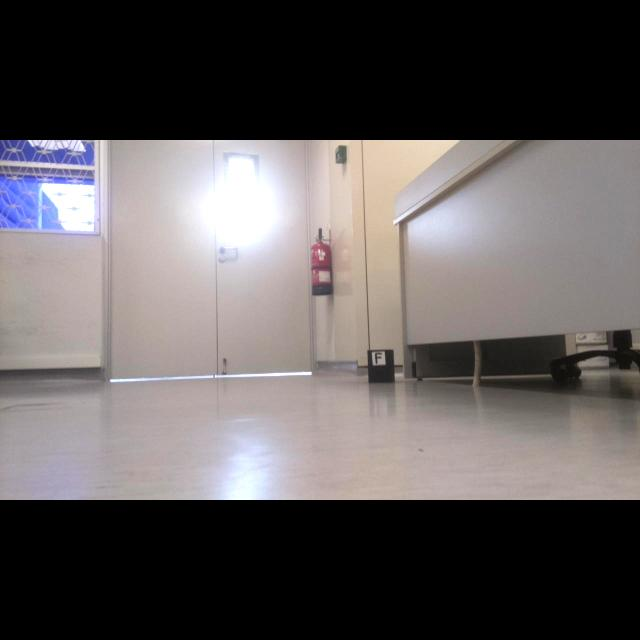F: (375, 353, 383, 364)
